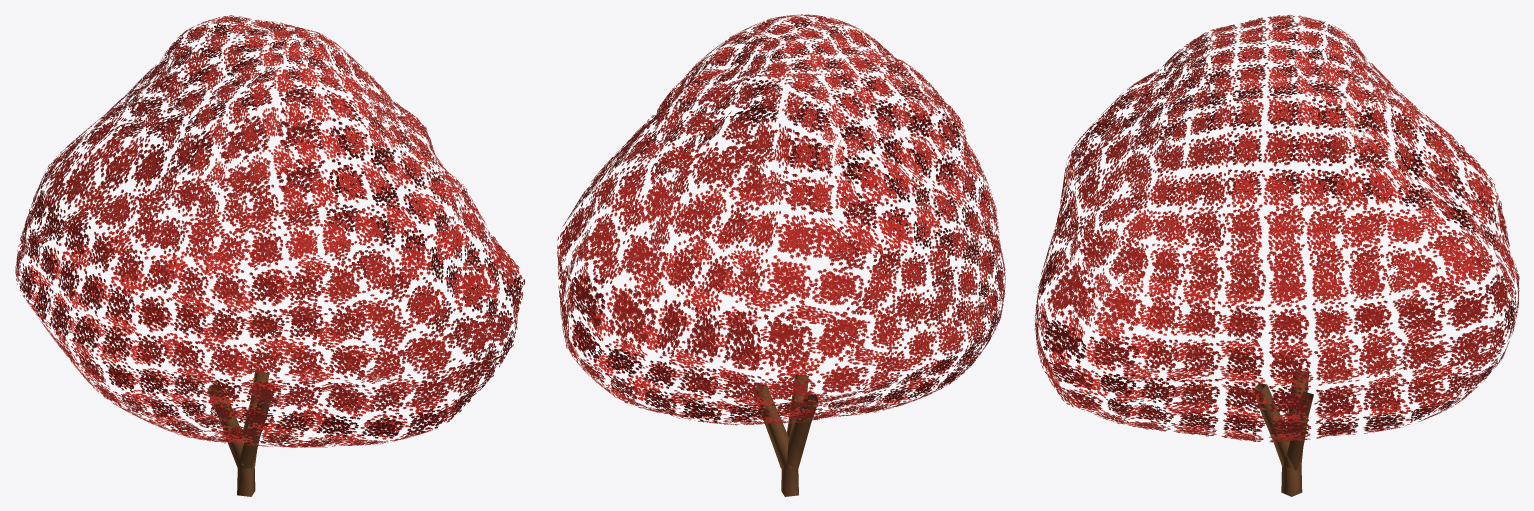
Rendered from Maple tree.fbx.
3 renders of one model, left to right at view 1: azimuth 30°, elevation 25°; view 2: azimuth 150°, elevation 25°; view 3: azimuth 270°, elevation 25°, orthographic. The views are drawn at different scales.
Visible parts, largest first — view 1: Cube; view 2: Cube; view 3: Cube.
Part boxes in pixels (x1,y1,x2,y2): Cube: (15,15,525,496); Cube: (557,14,1005,496); Cube: (1034,14,1519,496).
Size of the model in its own units: 659 by 765 by 722.
